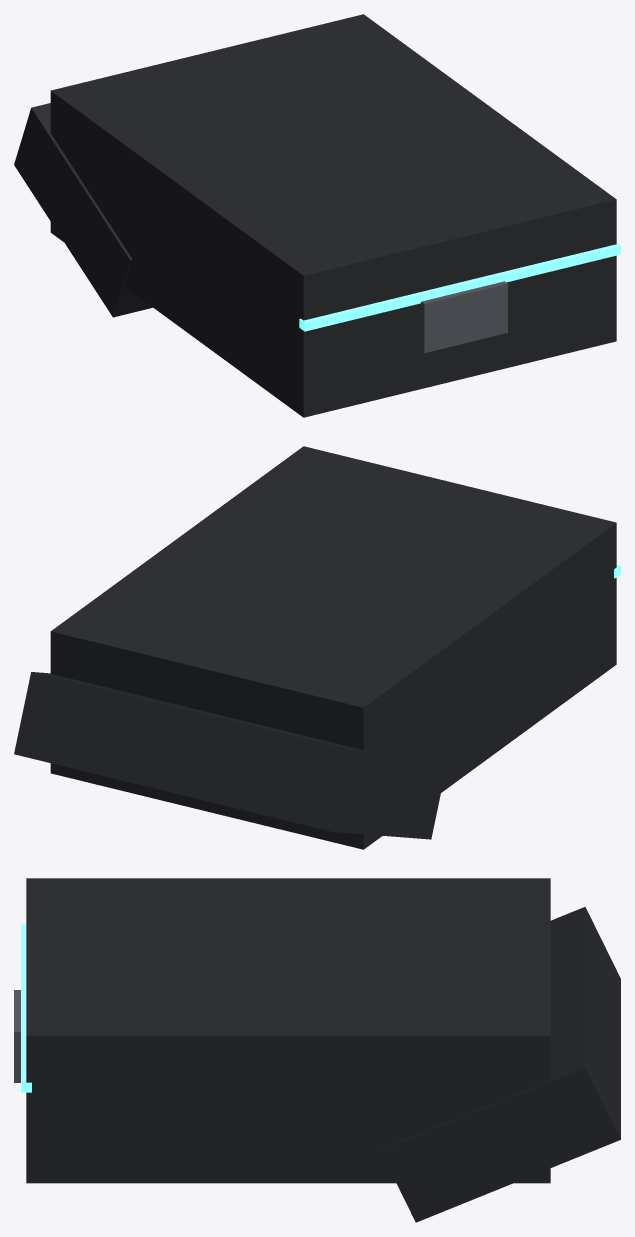
The model's file is bunker-ramp.glb.
The picture shows the model from 3 angles, top to bottom: view 1: azimuth 30°, elevation 25°; view 2: azimuth 150°, elevation 25°; view 3: azimuth 270°, elevation 25°; orthographic projection. The views are drawn at different scales.
Parts seen in each view (by area): view 1: bunker-ramp; view 2: bunker-ramp; view 3: bunker-ramp.
Boxes of the visible parts, left/top/right/bottom form: bunker-ramp: left=14, top=14, right=620, bottom=417; bunker-ramp: left=14, top=446, right=620, bottom=849; bunker-ramp: left=14, top=878, right=620, bottom=1222.
Bounding box in the file's own units: 6.1 × 3.27 × 9.73.
